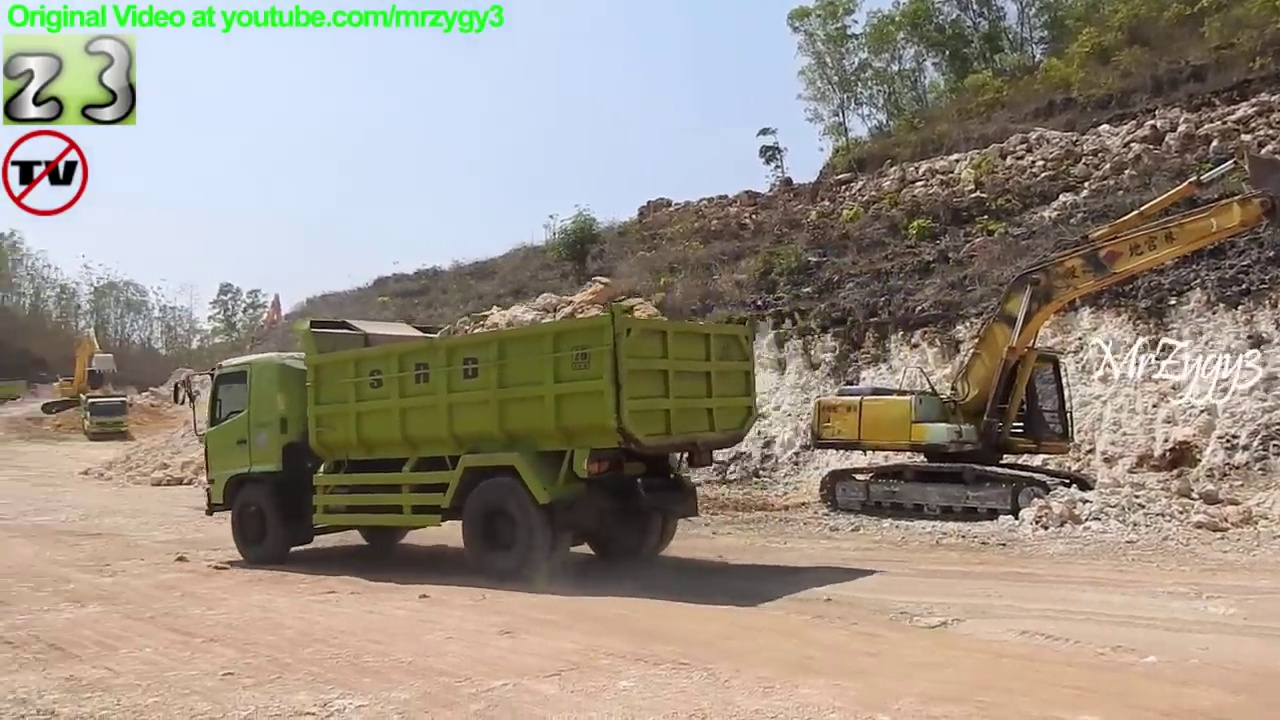excavator: (807, 140, 1280, 531), (40, 324, 122, 417), (243, 290, 285, 350)
truck: (169, 299, 764, 588), (75, 390, 134, 441), (1, 378, 27, 406)
